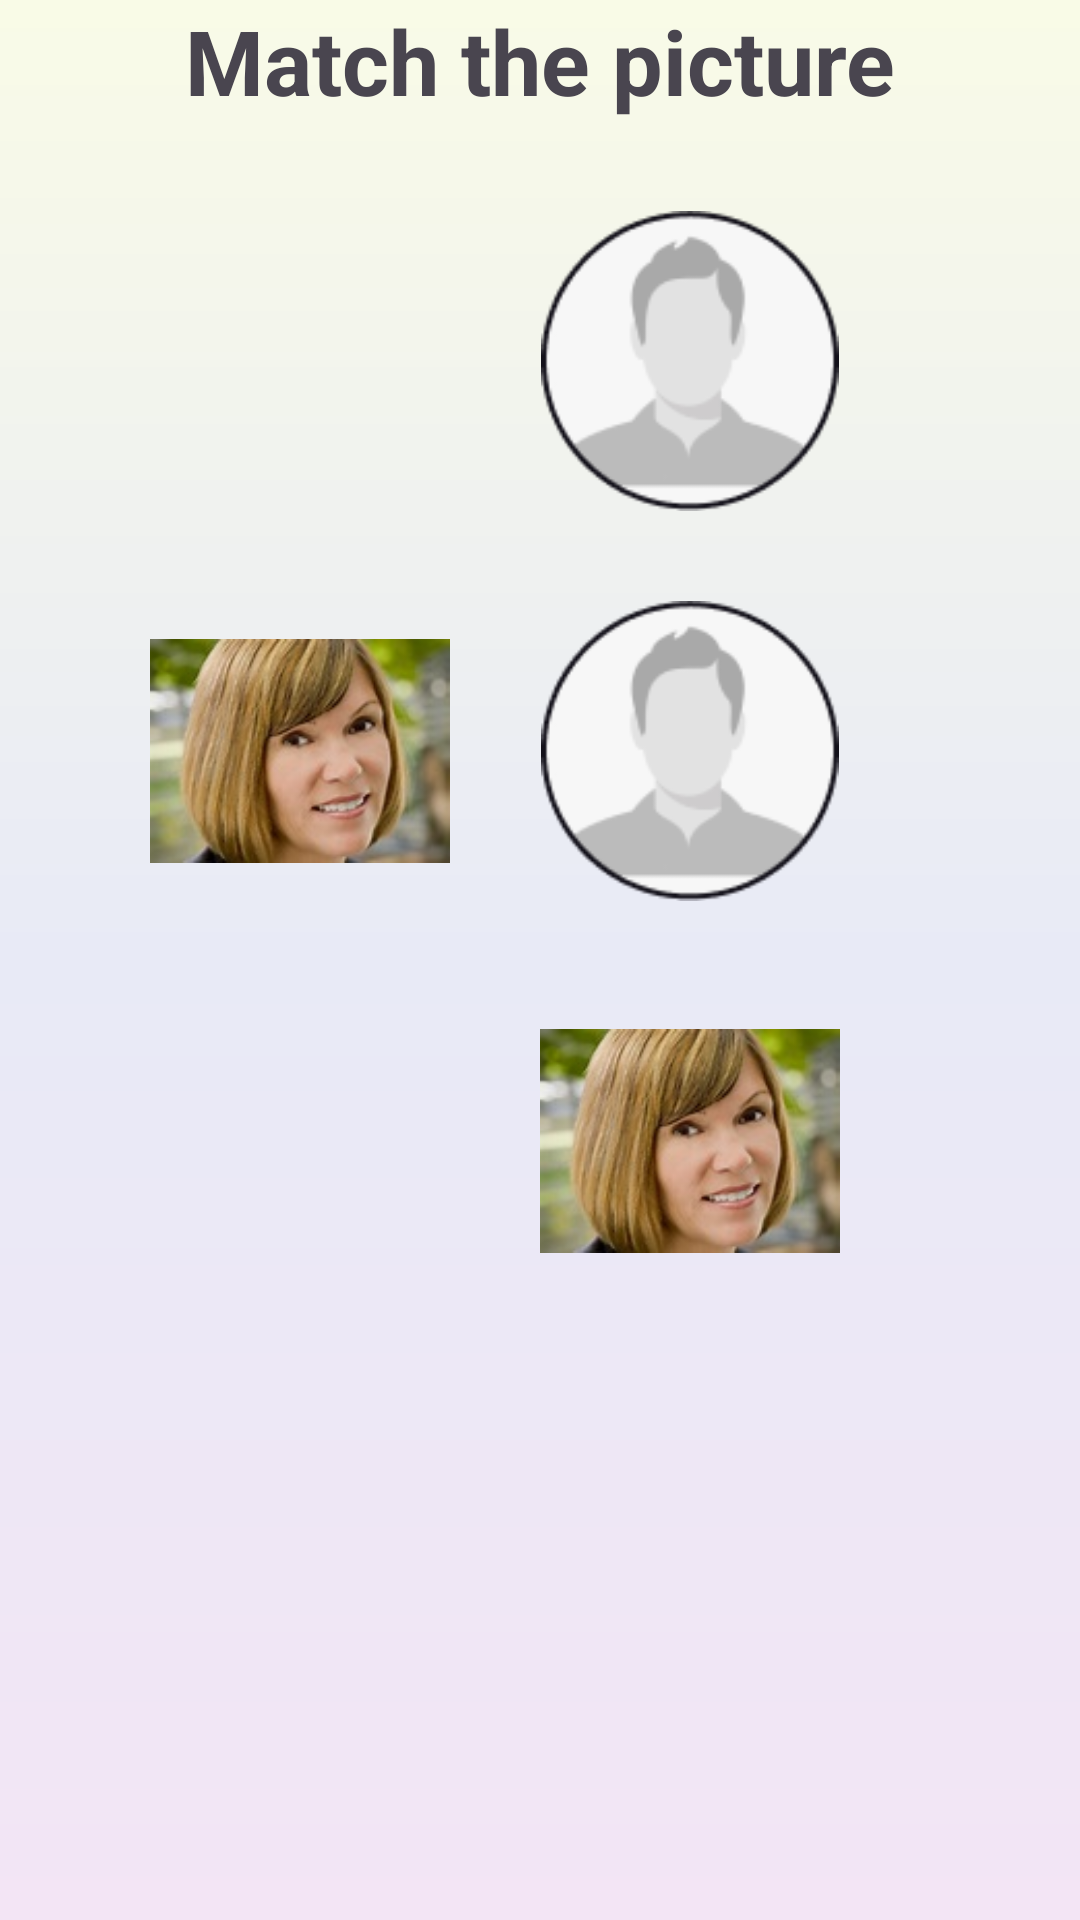

Named icons in this screenshot (1080*1920) and their bounding boxes, (x1, y1, x2, y2):
place holder: (541, 211, 839, 511), (541, 601, 839, 901)
